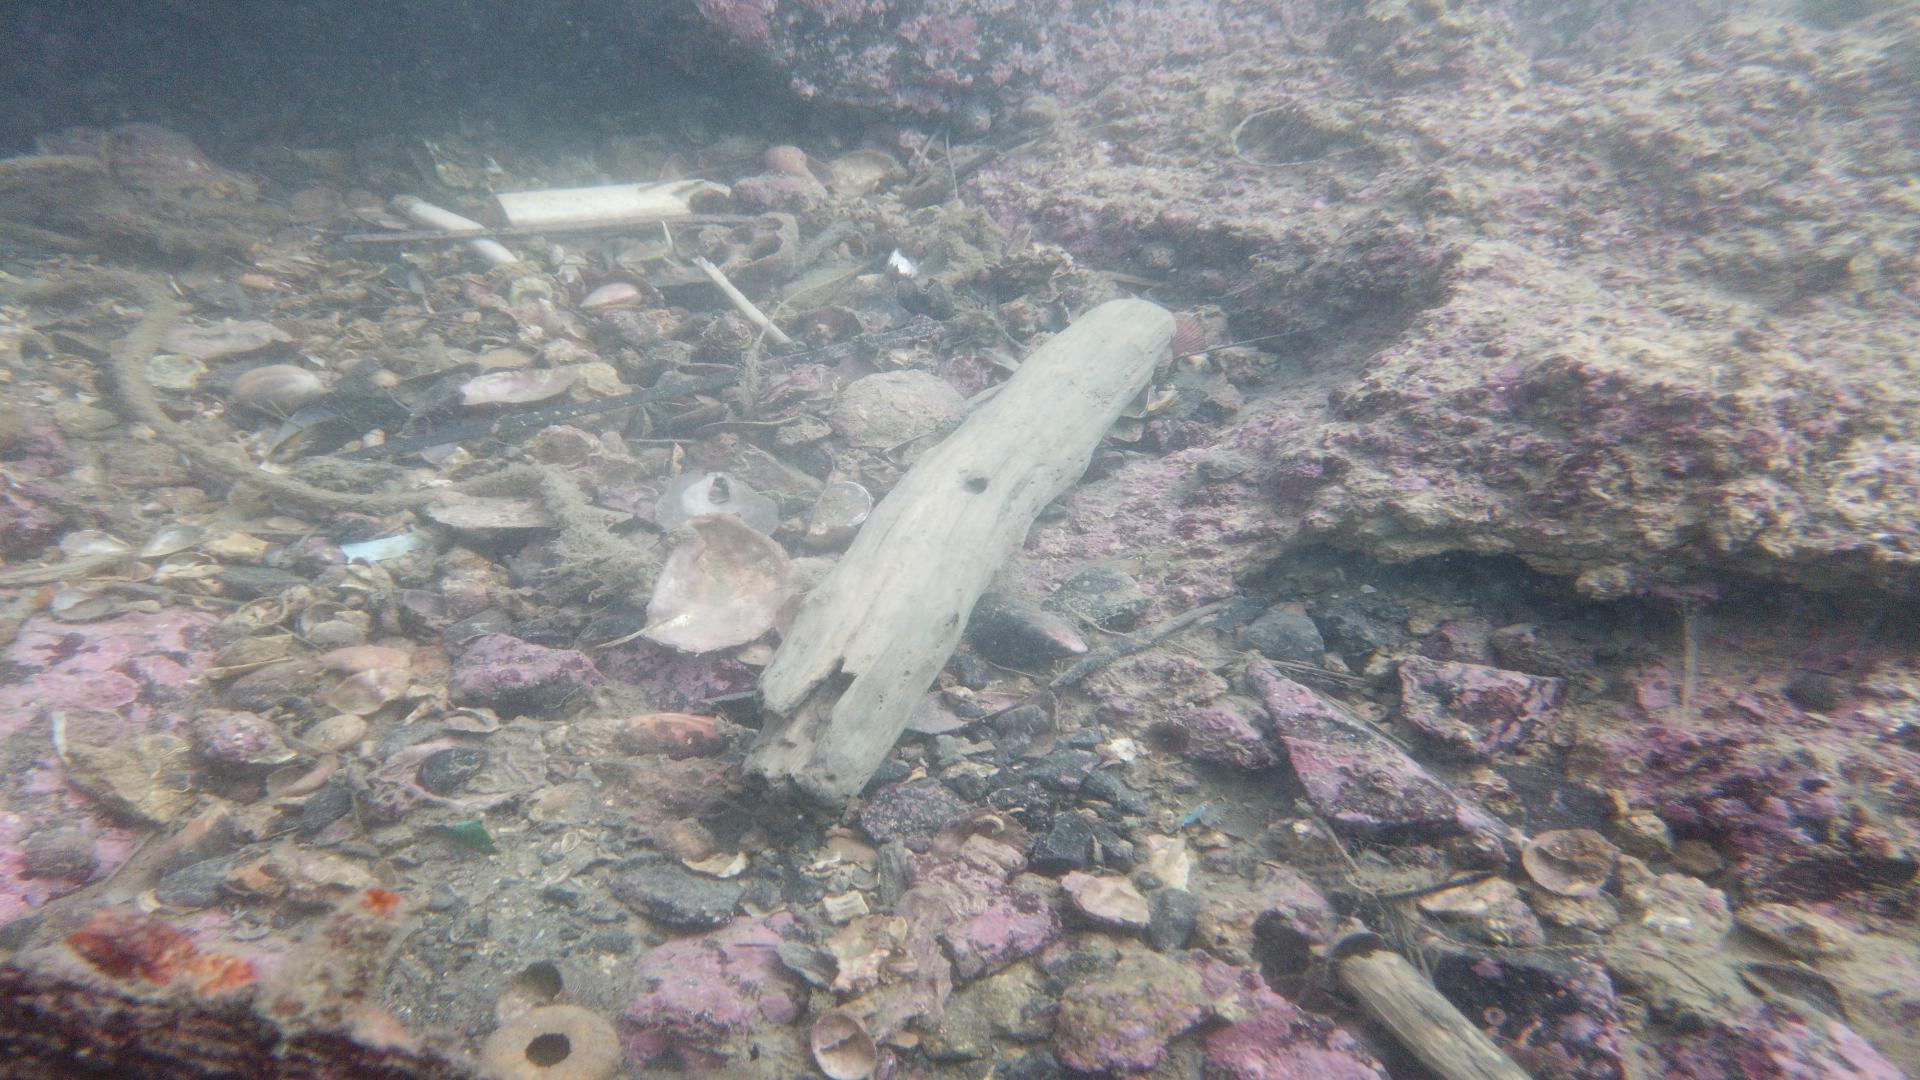rope: (0, 266, 603, 527), (1393, 903, 1721, 1000)
wood: (740, 294, 1180, 811), (1335, 947, 1532, 1080)
